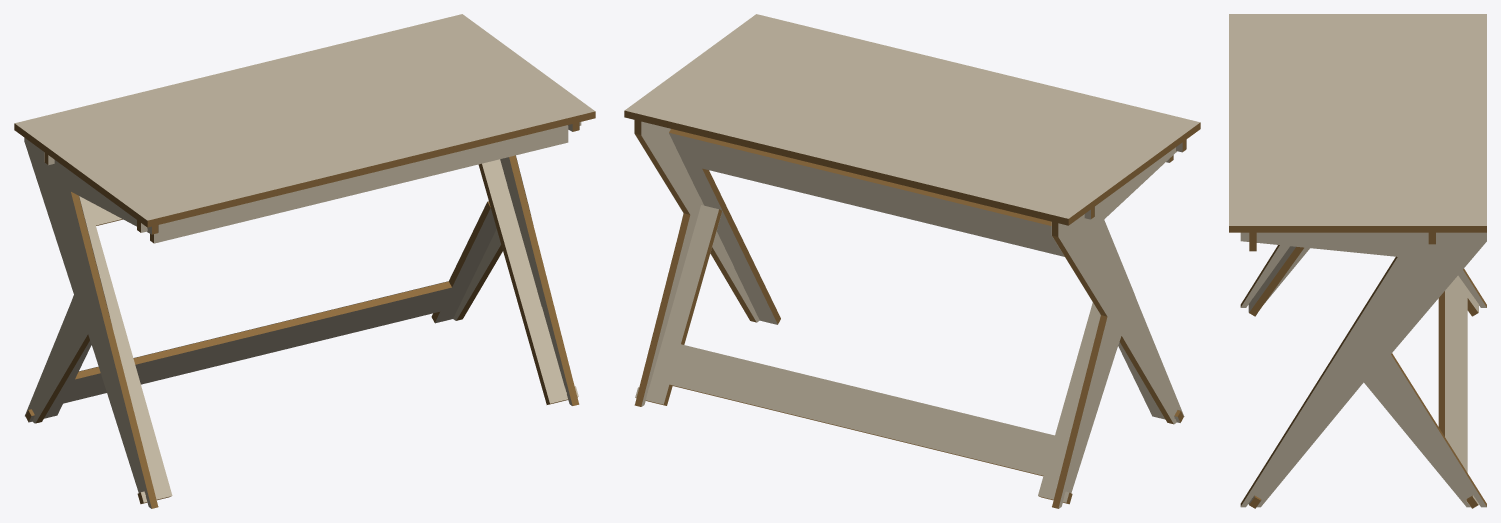
The model's file is NODO_ESCRITORIO_ESCULTORICO_KIRI_AR_V16_CANTOS_TAPA_OK.glb.
3 views of the same model, side by side, from view 1: azimuth 30°, elevation 25°; view 2: azimuth 150°, elevation 25°; view 3: azimuth 270°, elevation 25° (orthographic). The views are drawn at different scales.
Parts seen in each view (by area): view 1: G_Tapa_Superior_CARAS_COLOR_REAL, B_Escuadra_Trasera_PIEL_LISA_-1, D_Lateral_Izq_PIEL_LISA_-1, F_Traba_Delantera_PIEL_LISA_-1, A_Escuadra_Delantera_cuerpo, G_Tapa_Superior_CANTO_MDF, B_Escuadra_Trasera_canto, D_Lateral_Izq_canto, A_Escuadra_Delantera_PIEL_LISA_-1, C_Lateral_Der_canto, D_Lateral_Izq_cuerpo, C_Lateral_Der_PIEL_LISA_-1 (+2 smaller); view 2: G_Tapa_Superior_CARAS_COLOR_REAL, B_Escuadra_Trasera_PIEL_LISA_1, A_Escuadra_Delantera_PIEL_LISA_1, D_Lateral_Izq_PIEL_LISA_-1, G_Tapa_Superior_CANTO_MDF, C_Lateral_Der_PIEL_LISA_-1, A_Escuadra_Delantera_canto, D_Lateral_Izq_canto, C_Lateral_Der_canto, A_Escuadra_Delantera_cuerpo, D_Lateral_Izq_cuerpo, B_Escuadra_Trasera_canto (+1 smaller); view 3: G_Tapa_Superior_CARAS_COLOR_REAL, C_Lateral_Der_PIEL_LISA_1, B_Escuadra_Trasera_PIEL_LISA_1, C_Lateral_Der_cuerpo, G_Tapa_Superior_CANTO_MDF, B_Escuadra_Trasera_canto, C_Lateral_Der_canto, D_Lateral_Izq_cuerpo, A_Escuadra_Delantera_canto, D_Lateral_Izq_PIEL_LISA_1.
Part boxes in pixels (left/top/right/bottom): G_Tapa_Superior_CARAS_COLOR_REAL: left=15, top=14, right=595, bottom=220; B_Escuadra_Trasera_PIEL_LISA_-1: left=29, top=208, right=496, bottom=422; D_Lateral_Izq_PIEL_LISA_-1: left=24, top=137, right=151, bottom=508; F_Traba_Delantera_PIEL_LISA_-1: left=141, top=122, right=581, bottom=243; A_Escuadra_Delantera_cuerpo: left=95, top=161, right=549, bottom=501; G_Tapa_Superior_CANTO_MDF: left=14, top=111, right=595, bottom=227; B_Escuadra_Trasera_canto: left=25, top=201, right=490, bottom=421; D_Lateral_Izq_canto: left=35, top=192, right=158, bottom=508; A_Escuadra_Delantera_PIEL_LISA_-1: left=79, top=159, right=578, bottom=502; C_Lateral_Der_canto: left=456, top=122, right=579, bottom=405; D_Lateral_Izq_cuerpo: left=25, top=192, right=151, bottom=508; C_Lateral_Der_PIEL_LISA_-1: left=453, top=124, right=572, bottom=405; G_Tapa_Superior_CARAS_COLOR_REAL: left=625, top=14, right=1199, bottom=218; B_Escuadra_Trasera_PIEL_LISA_1: left=635, top=205, right=1100, bottom=502; A_Escuadra_Delantera_PIEL_LISA_1: left=669, top=133, right=1180, bottom=422; D_Lateral_Izq_PIEL_LISA_-1: left=1058, top=169, right=1184, bottom=508; G_Tapa_Superior_CANTO_MDF: left=624, top=110, right=1200, bottom=225; C_Lateral_Der_PIEL_LISA_-1: left=641, top=121, right=759, bottom=406; A_Escuadra_Delantera_canto: left=669, top=129, right=1183, bottom=422; D_Lateral_Izq_canto: left=1052, top=222, right=1173, bottom=508; C_Lateral_Der_canto: left=634, top=120, right=756, bottom=406; A_Escuadra_Delantera_cuerpo: left=669, top=133, right=1180, bottom=422; D_Lateral_Izq_cuerpo: left=1058, top=147, right=1183, bottom=508; B_Escuadra_Trasera_canto: left=646, top=209, right=1072, bottom=504; G_Tapa_Superior_CARAS_COLOR_REAL: left=1229, top=14, right=1486, bottom=225; C_Lateral_Der_PIEL_LISA_1: left=1240, top=232, right=1486, bottom=507; B_Escuadra_Trasera_PIEL_LISA_1: left=1445, top=275, right=1478, bottom=504; C_Lateral_Der_cuerpo: left=1241, top=232, right=1486, bottom=506; G_Tapa_Superior_CANTO_MDF: left=1229, top=226, right=1486, bottom=232; B_Escuadra_Trasera_canto: left=1438, top=291, right=1478, bottom=508; C_Lateral_Der_canto: left=1240, top=256, right=1486, bottom=506; D_Lateral_Izq_cuerpo: left=1240, top=245, right=1486, bottom=307; A_Escuadra_Delantera_canto: left=1249, top=247, right=1303, bottom=508; D_Lateral_Izq_PIEL_LISA_1: left=1241, top=245, right=1486, bottom=307.
Size of what is drawn, in the model's own units: 1.22 by 0.7686 by 0.628.
2 materials, 2 textured.
